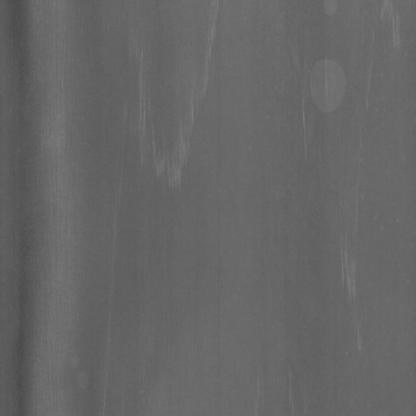silk_spot: (131, 31, 216, 220)
